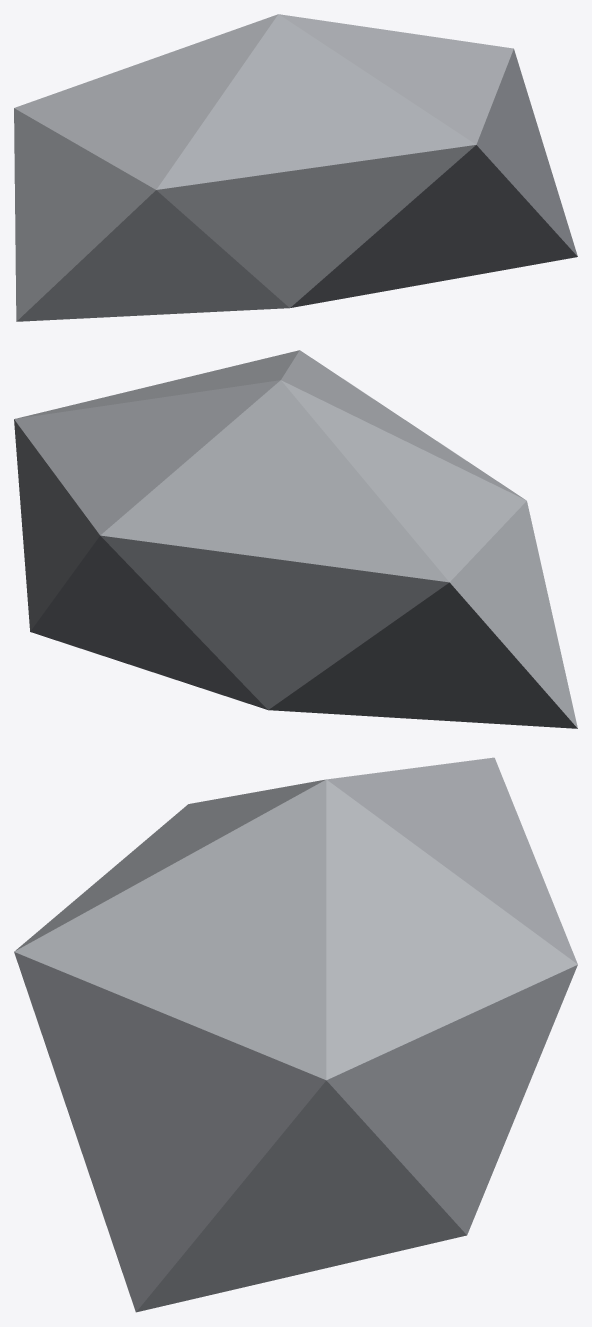
Rendered from Rock_B.fbx.
3 views of the same model, one above another, from view 1: azimuth 30°, elevation 25°; view 2: azimuth 150°, elevation 25°; view 3: azimuth 270°, elevation 25° (orthographic). The views are drawn at different scales.
Parts seen in each view (by area): view 1: Rock_B; view 2: Rock_B; view 3: Rock_B.
Boxes of the visible parts, x1=… form: Rock_B: x1=14, y1=14, x2=577, y2=321; Rock_B: x1=14, y1=350, x2=577, y2=728; Rock_B: x1=14, y1=757, x2=577, y2=1312.
Size of the model in its own units: 1.55 by 0.7584 by 1.05.
Materials: 1 (1 with a texture image).
